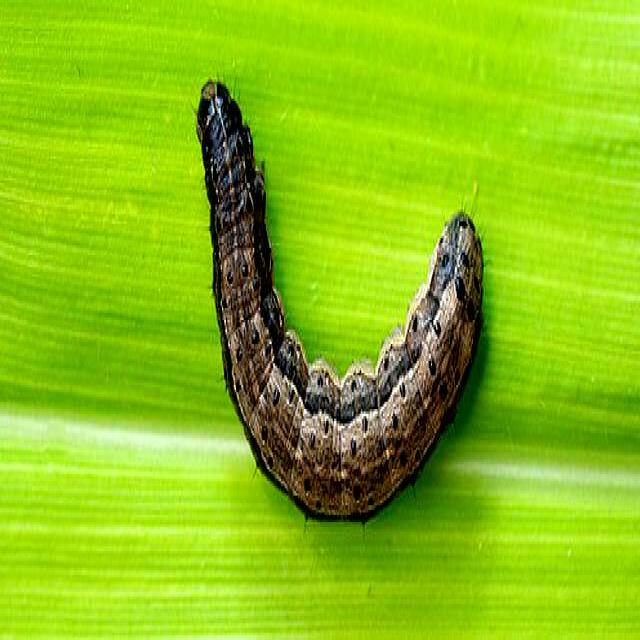Armyworm: (170, 18, 496, 555)
